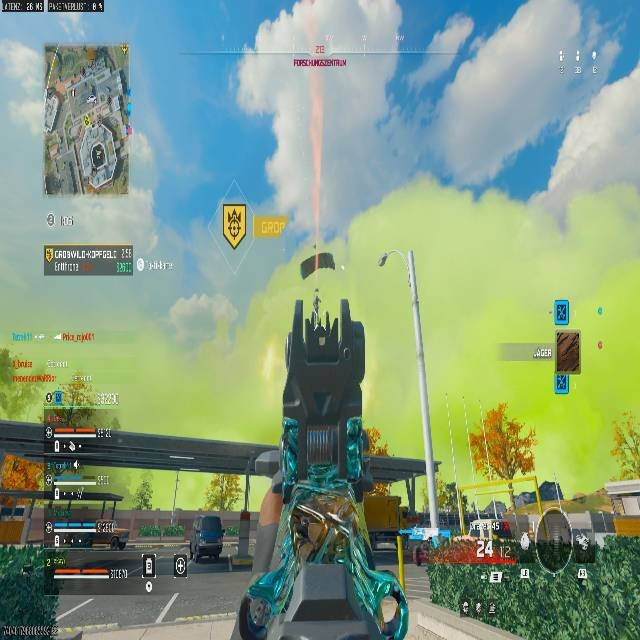player: (164, 288, 238, 359)
